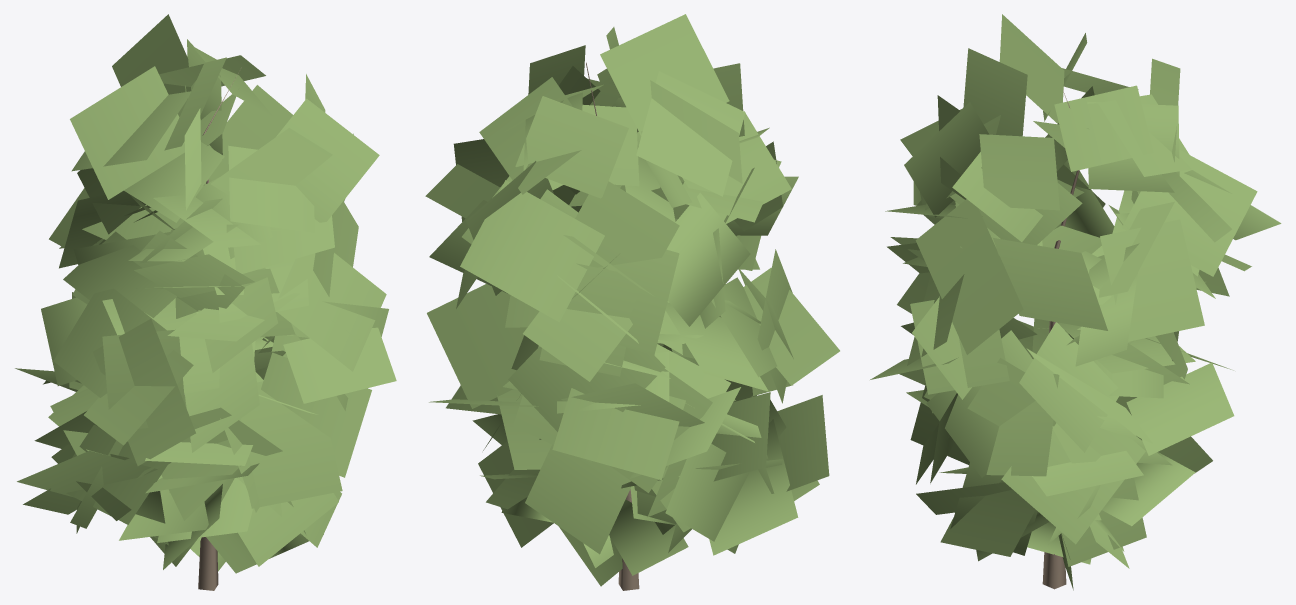
File: Maple_12_young_lod2.glb
3 views of the same model, side by side, from view 1: azimuth 30°, elevation 25°; view 2: azimuth 150°, elevation 25°; view 3: azimuth 270°, elevation 25° (orthographic).
Visible parts, largest first — view 1: Maple_12_young_lod2; view 2: Maple_12_young_lod2; view 3: Maple_12_young_lod2.
Boxes of the visible parts, x1,y1,x2,y2 form: Maple_12_young_lod2: (15, 14, 396, 590); Maple_12_young_lod2: (425, 14, 839, 590); Maple_12_young_lod2: (870, 14, 1281, 590).
Bounding box in the file's own units: 7.62 × 11.2 × 7.53.
